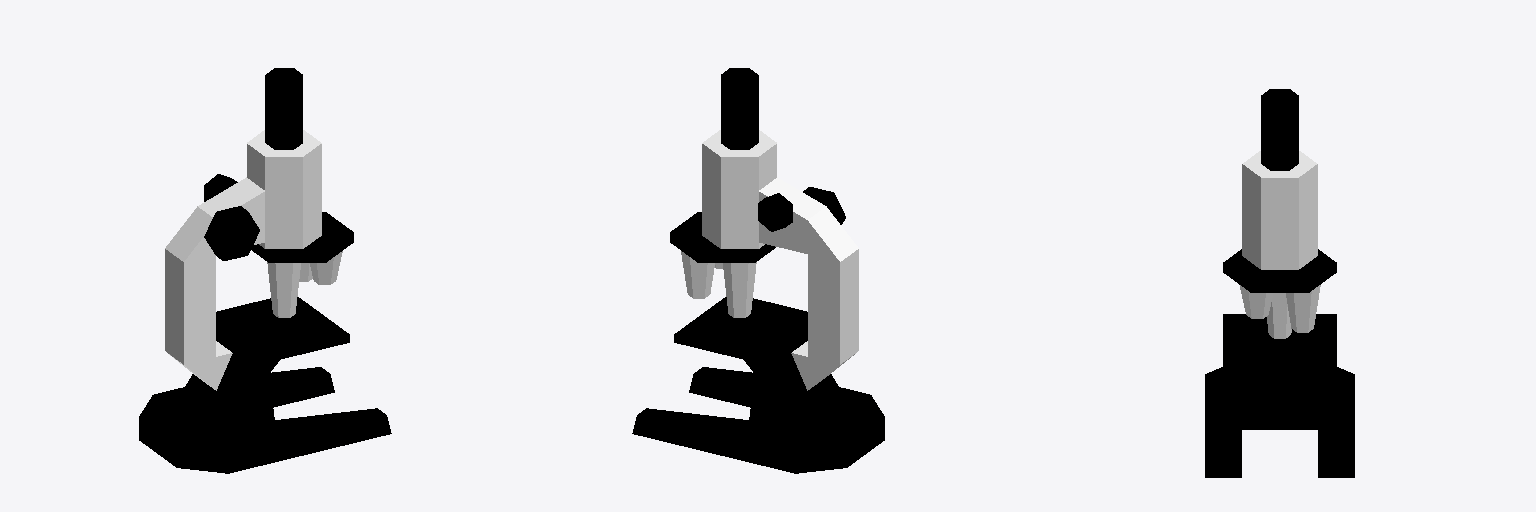
The model's file is microscope.obj.
3 views of the same model, side by side, from view 1: azimuth 30°, elevation 25°; view 2: azimuth 150°, elevation 25°; view 3: azimuth 270°, elevation 25° (orthographic).
Parts seen in each view (by area): view 1: Cube.023_Cube.024, Cube.022_Cube.023, Cylinder.047_Cylinder.048, Cube.021_Cube.022, Cylinder.046_Cylinder.047, Cylinder.044_Cylinder.045, Cylinder.040_Cylinder.041, Cylinder.045_Cylinder.046, Cylinder.042_Cylinder.043; view 2: Cube.023_Cube.024, Cube.022_Cube.023, Cylinder.047_Cylinder.048, Cube.021_Cube.022, Cylinder.046_Cylinder.047, Cylinder.040_Cylinder.041, Cylinder.045_Cylinder.046, Cylinder.043_Cylinder.044, Cylinder.041_Cylinder.042, Cylinder.044_Cylinder.045; view 3: Cube.023_Cube.024, Cylinder.047_Cylinder.048, Cube.021_Cube.022, Cylinder.046_Cylinder.047, Cylinder.040_Cylinder.041, Cylinder.041_Cylinder.042, Cylinder.045_Cylinder.046, Cylinder.042_Cylinder.043.
Part boxes in pixels (left/top/right/bottom): Cube.023_Cube.024: left=139, top=353, right=391, bottom=473; Cube.022_Cube.023: left=165, top=177, right=264, bottom=390; Cylinder.047_Cylinder.048: left=247, top=130, right=321, bottom=248; Cube.021_Cube.022: left=216, top=297, right=349, bottom=366; Cylinder.046_Cylinder.047: left=265, top=68, right=302, bottom=149; Cylinder.044_Cylinder.045: left=204, top=206, right=259, bottom=260; Cylinder.040_Cylinder.041: left=251, top=212, right=353, bottom=262; Cylinder.045_Cylinder.046: left=267, top=262, right=300, bottom=317; Cylinder.042_Cylinder.043: left=310, top=251, right=342, bottom=284; Cube.023_Cube.024: left=632, top=353, right=884, bottom=473; Cube.022_Cube.023: left=759, top=177, right=858, bottom=390; Cylinder.047_Cylinder.048: left=702, top=130, right=776, bottom=248; Cube.021_Cube.022: left=674, top=297, right=807, bottom=366; Cylinder.046_Cylinder.047: left=721, top=68, right=758, bottom=149; Cylinder.040_Cylinder.041: left=670, top=212, right=775, bottom=262; Cylinder.045_Cylinder.046: left=723, top=262, right=756, bottom=317; Cylinder.043_Cylinder.044: left=758, top=193, right=792, bottom=231; Cylinder.041_Cylinder.042: left=681, top=251, right=714, bottom=298; Cylinder.044_Cylinder.045: left=803, top=187, right=845, bottom=224; Cube.023_Cube.024: left=1205, top=367, right=1354, bottom=477; Cylinder.047_Cylinder.048: left=1242, top=151, right=1317, bottom=269; Cube.021_Cube.022: left=1223, top=314, right=1336, bottom=369; Cylinder.046_Cylinder.047: left=1261, top=89, right=1298, bottom=170; Cylinder.040_Cylinder.041: left=1223, top=249, right=1336, bottom=292; Cylinder.041_Cylinder.042: left=1286, top=285, right=1320, bottom=332; Cylinder.045_Cylinder.046: left=1267, top=293, right=1291, bottom=338; Cylinder.042_Cylinder.043: left=1240, top=285, right=1272, bottom=318.
Bounding box in the file's own units: 6 × 10.2 × 4.